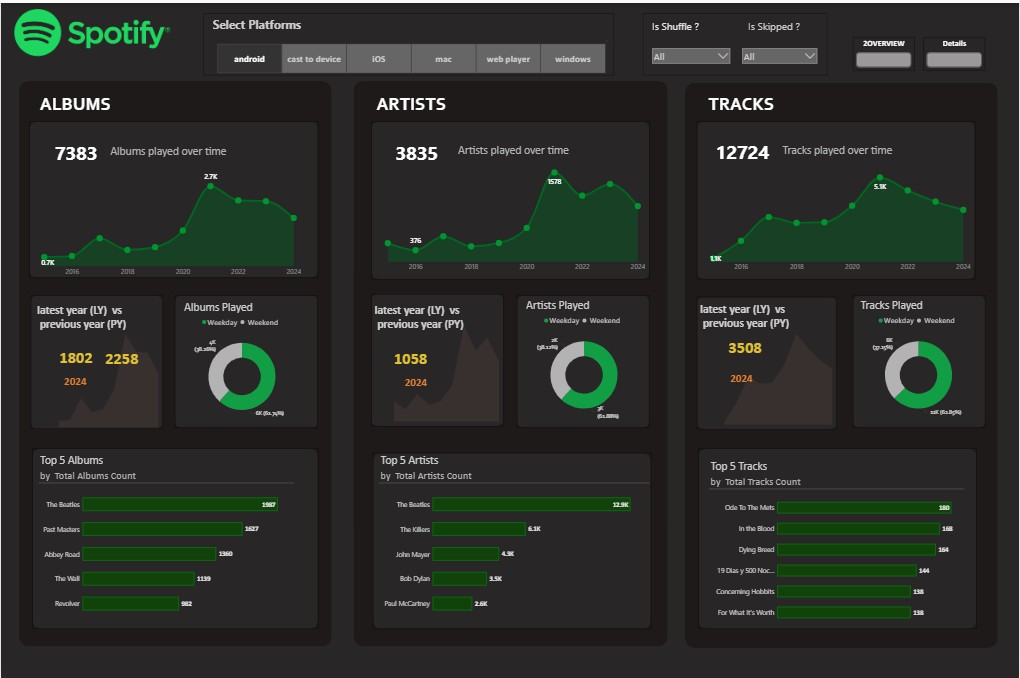

Layout of this report page (visuals, bound fields, positions):
{"tool":"powerbi","page":{"name":"OVERVIEW","canvas":[3300,2200],"ordinal":0},"visuals":[{"type":"shape","box":[657.7,34.1,1330.1,199.8],"z":0},{"type":"image","box":[10,0,575,199],"z":1000},{"type":"shape","box":[58.5,253.3,1013.4,1831.9],"z":2000},{"type":"shape","box":[92.6,384.9,935.4,506.7],"z":3000},{"type":"card","fields":{"Values":["spotify_history.No of Albums"]},"box":[121.5,418,243,126.4],"z":4000},{"type":"textbox","box":[92.6,287.5,297.2,97.4],"z":5000},{"type":"textbox","box":[340.2,452,403.4,92.3],"z":6000},{"type":"areaChart","fields":{"Category":["Date Table.Year"],"Y":["spotify_history.No of Albums"]},"box":[111.8,539.5,865.1,354.8],"z":7000},{"type":"shape","box":[97.2,947.7,427,432],"z":8000},{"type":"areaChart","fields":{"Category":["Date Table.Year"],"Y":["spotify_history.No of Albums"]},"box":[136.1,1040.1,388.8,340.2],"z":9000},{"type":"textbox","box":[111.8,967.2,301.3,111.8],"z":10000},{"type":"card","fields":{"Values":["spotify_history.CurrentYearAlbums"]},"box":[121.5,1079,243,131.2],"z":11000},{"type":"card","fields":{"Values":["spotify_history.PreviousYearAlbum"]},"box":[311.1,1108.1,160.4,77.8],"z":12000},{"type":"slicer","fields":{"Values":["spotify_history.platform"]},"box":[677.2,112.1,1305.7,121.8],"z":13000},{"type":"shape","box":[565.2,950.1,462.8,428.7],"z":14000},{"type":"donutChart","title":" Albums Played","fields":{"Category":["Date Table.Weekday_Weekend"],"Y":["spotify_history.No of Albums"]},"box":[589.5,964.7,384.9,409.3],"z":15000},{"type":"card","fields":{"Values":["spotify_history.MaxYear"]},"box":[145.8,1171.3,189.5,102.1],"z":16000},{"type":"shape","box":[102.3,1442.1,925.7,584.7],"z":17000},{"type":"clusteredBarChart","title":"Top 5 Albums","fields":{"Y":["CountNonNull(spotify_history.album_name)"],"Category":["spotify_history.album_name"]},"box":[121.8,1456.8,828.3,550.5],"z":18000},{"type":"shape","box":[1140.1,253.3,1018.3,1831.9],"z":19000},{"type":"shape","box":[2216.8,258.2,1013.4,1831.9],"z":20000},{"type":"shape","box":[1198.5,384.9,901.3,511.6],"z":21000},{"type":"shape","box":[2255.8,384.9,901.3,511.6],"z":22000},{"type":"shape","box":[1203.4,1456.8,901.3,570],"z":23000},{"type":"shape","box":[1198.5,945.2,428.7,428.7],"z":24000},{"type":"shape","box":[1671.1,950.1,428.7,428.7],"z":25000},{"type":"shape","box":[2255.8,954.9,453.1,428.7],"z":26000},{"type":"shape","box":[2762.5,950.1,428.7,428.7],"z":27000},{"type":"shape","box":[2260.6,1442.1,901.3,584.7],"z":28000},{"type":"card","fields":{"Values":["spotify_history.No of Artists"]},"box":[1222.9,419,243.6,126.7],"z":29000},{"type":"areaChart","fields":{"Category":["Date Table.Year"],"Y":["spotify_history.No of Artists"]},"box":[1222.9,526.2,867.2,355.7],"z":30000},{"type":"areaChart","fields":{"Category":["Date Table.Year"],"Y":["spotify_history.No of Artists"]},"box":[1219.9,1025.5,408.3,335.4],"z":31000},{"type":"textbox","box":[1203.4,969.5,302.1,112.1],"z":32000},{"type":"card","fields":{"Values":["spotify_history.LatestYearArtists"]},"box":[1203.4,1081.6,243.6,126.7],"z":33000},{"type":"donutChart","title":" Artists Played","fields":{"Category":["Date Table.Weekday_Weekend"],"Y":["spotify_history.No of Artists"]},"box":[1695.5,959.8,384.9,409.3],"z":34000},{"type":"card","fields":{"Values":["spotify_history.MaxYear"]},"box":[1247.3,1174.2,190,102.3],"z":35000},{"type":"clusteredBarChart","title":"Top 5 Artists","fields":{"Category":["spotify_history.artist_name"],"Y":["CountNonNull(spotify_history.artist_name)"]},"box":[1222.9,1456.8,877,550.5],"z":36000},{"type":"card","fields":{"Values":["spotify_history.No Of Tracks"]},"box":[2280.1,419,243.6,121.8],"z":37000},{"type":"areaChart","fields":{"Category":["Date Table.Year"],"Y":["spotify_history.No Of Tracks"]},"box":[2280.1,526.2,867.2,355.7],"z":38000},{"type":"areaChart","fields":{"Category":["Date Table.Year"],"Y":["spotify_history.No Of Tracks"]},"box":[2289.9,1028,419,341],"z":39000},{"type":"textbox","box":[2260.6,964.7,302.1,112.1],"z":40000},{"type":"card","fields":{"Values":["spotify_history.LatestYearTracks"]},"box":[2289.9,1042.6,243.6,131.5],"z":41000},{"type":"donutChart","title":" Tracks Played","fields":{"Category":["Date Table.Weekday_Weekend"],"Y":["spotify_history.No Of Tracks"]},"box":[2782,959.8,384.9,409.3],"z":42000},{"type":"card","fields":{"Values":["spotify_history.MaxYear"]},"box":[2304.5,1159.6,190,102.3],"z":43000},{"type":"clusteredBarChart","title":"Top 5 Tracks","fields":{"Category":["spotify_history.track_name"],"Y":["CountNonNull(spotify_history.track_name)"]},"box":[2294.8,1476.2,828.3,550.5],"z":44000},{"type":"textbox","box":[1456.8,448.2,404.4,92.6],"z":45000},{"type":"textbox","box":[2509.1,448.2,404.4,92.6],"z":46000},{"type":"textbox","box":[2250.9,287.5,297.2,97.4],"z":47000},{"type":"textbox","box":[1179,287.5,297.2,97.4],"z":48000},{"type":"textbox","box":[682.1,39,297.2,97.4],"z":49000},{"type":"shape","box":[2080.4,34.1,599.3,199.8],"z":50000},{"type":"slicer","fields":{"Values":["spotify_history.shuffle"]},"box":[2099.9,136.4,272.8,97.4],"z":51000},{"type":"slicer","fields":{"Values":["spotify_history.skipped"]},"box":[2392.2,136.4,263.1,97.4],"z":52000},{"type":"textbox","box":[2104.7,48.7,185.1,63.3],"z":53000},{"type":"textbox","box":[2416.6,48.7,185.1,63.3],"z":54000},{"type":"actionButton","title":"2OVERVIEW","box":[2760.6,111.8,199.3,106.9],"z":54001},{"type":"actionButton","title":"Details","box":[2989,111.8,199.3,106.9],"z":54002}]}

Visuals, with their boxes in screenshot pixels (x1, y1, x2, y2), scaled from the page's 3300x2200 canvas onto the 1020x678 screenshot:
shape: 203:11:614:72
image: 3:0:181:61
shape: 18:78:331:643
shape: 29:119:318:275
card - spotify_history.No of Albums: 38:129:113:168
textbox: 29:89:120:119
textbox: 105:139:230:168
areaChart - Date Table.Year x spotify_history.No of Albums: 35:166:302:276
shape: 30:292:162:425
areaChart - Date Table.Year x spotify_history.No of Albums: 42:321:162:425
textbox: 35:298:128:333
card - spotify_history.CurrentYearAlbums: 38:333:113:373
card - spotify_history.PreviousYearAlbum: 96:341:146:365
slicer - spotify_history.platform: 209:35:613:72
shape: 175:293:318:425
" Albums Played" donutChart: 182:297:301:423
card - spotify_history.MaxYear: 45:361:104:392
shape: 32:444:318:625
"Top 5 Albums" clusteredBarChart: 38:449:294:619
shape: 352:78:667:643
shape: 685:80:998:644
shape: 370:119:649:276
shape: 697:119:976:276
shape: 372:449:651:625
shape: 370:291:503:423
shape: 517:293:649:425
shape: 697:294:837:426
shape: 854:293:986:425
shape: 699:444:977:625
card - spotify_history.No of Artists: 378:129:453:168
areaChart - Date Table.Year x spotify_history.No of Artists: 378:162:646:272
areaChart - Date Table.Year x spotify_history.No of Artists: 377:316:503:419
textbox: 372:299:465:333
card - spotify_history.LatestYearArtists: 372:333:447:372
" Artists Played" donutChart: 524:296:643:422
card - spotify_history.MaxYear: 386:362:444:393
"Top 5 Artists" clusteredBarChart: 378:449:649:619
card - spotify_history.No Of Tracks: 705:129:780:167
areaChart - Date Table.Year x spotify_history.No Of Tracks: 705:162:973:272
areaChart - Date Table.Year x spotify_history.No Of Tracks: 708:317:837:422
textbox: 699:297:792:332
card - spotify_history.LatestYearTracks: 708:321:783:362
" Tracks Played" donutChart: 860:296:979:422
card - spotify_history.MaxYear: 712:357:771:389
"Top 5 Tracks" clusteredBarChart: 709:455:965:625
textbox: 450:138:575:167
textbox: 776:138:901:167
textbox: 696:89:788:119
textbox: 364:89:456:119
textbox: 211:12:303:42
shape: 643:11:828:72
slicer - spotify_history.shuffle: 649:42:733:72
slicer - spotify_history.skipped: 739:42:821:72
textbox: 651:15:708:35
textbox: 747:15:804:35
"2OVERVIEW" actionButton: 853:34:915:67
"Details" actionButton: 924:34:985:67
